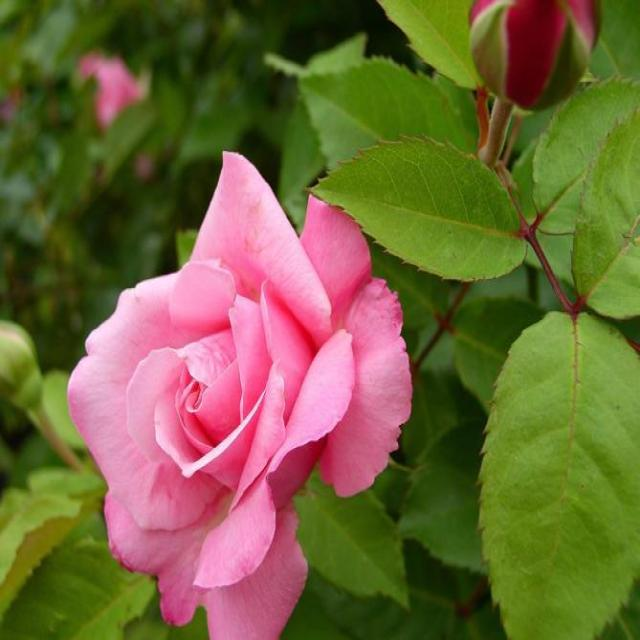rose: (60, 128, 447, 640)
